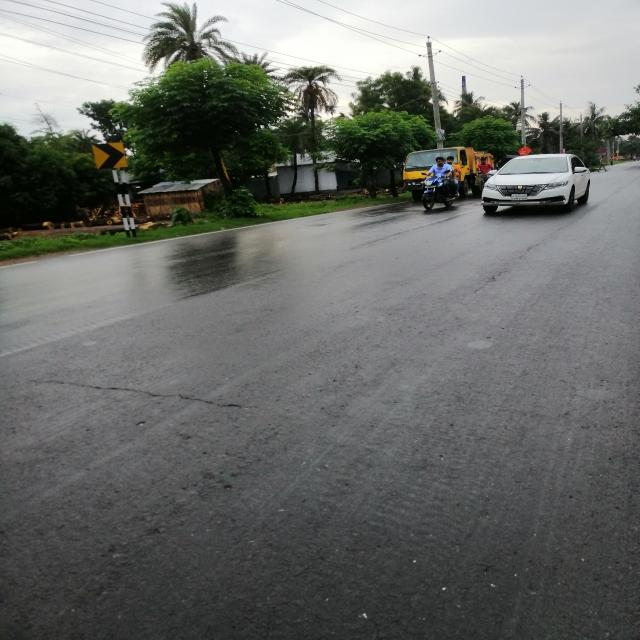Car: (471, 142, 610, 232)
Motorbike: (408, 175, 484, 221)
Truck: (380, 139, 496, 212)
